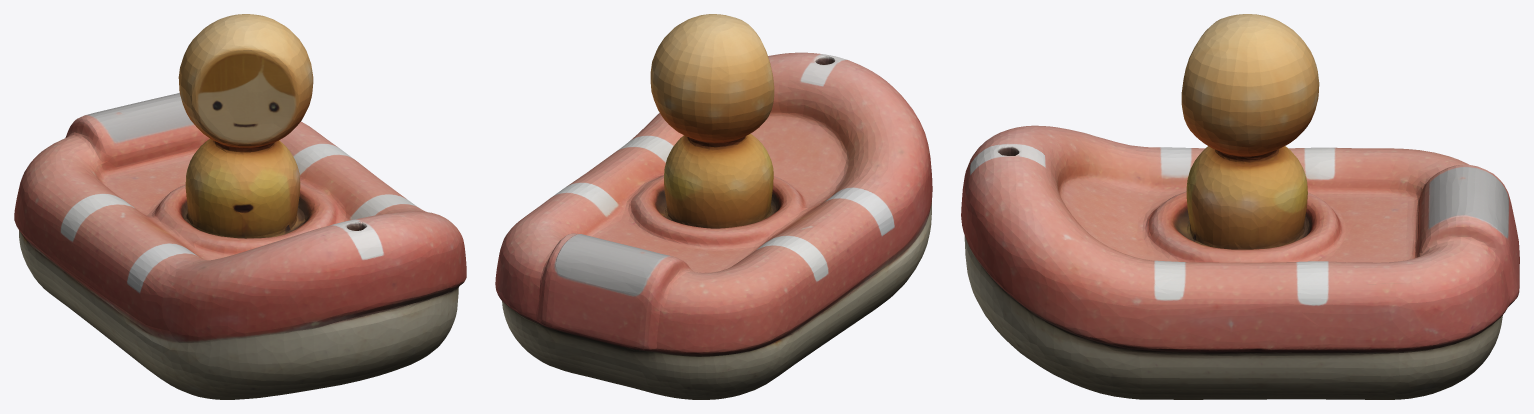
The picture shows the model from 3 angles, left to right: view 1: azimuth 30°, elevation 25°; view 2: azimuth 150°, elevation 25°; view 3: azimuth 270°, elevation 25°; orthographic projection. The views are drawn at different scales.
Visible parts, largest first — view 1: world; view 2: world; view 3: world.
Boxes of the visible parts, x1,y1,x2,y2 form: world: (14, 14, 466, 399); world: (495, 14, 932, 399); world: (961, 14, 1519, 399).
Bounding box in the file's own units: 0.6483 × 0.6517 × 0.9996.
1 material, 1 textured.
